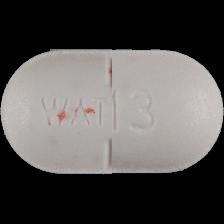52544-913: (0, 0, 224, 224)
